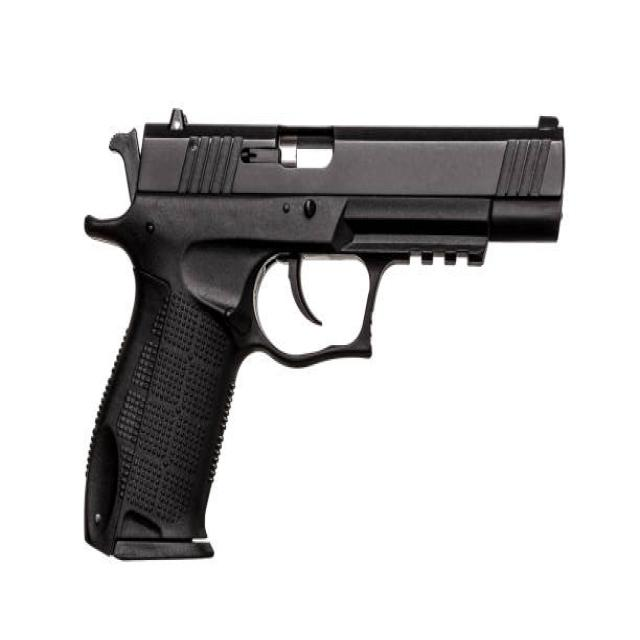pistol: (71, 106, 574, 583)
